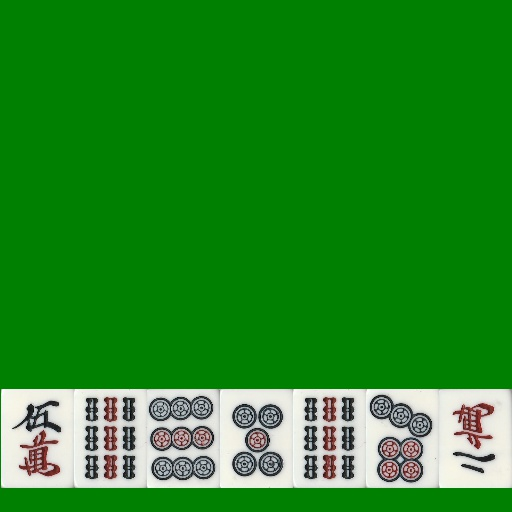2m: (439, 389, 512, 488)
5m: (1, 389, 74, 488)
5p: (220, 389, 293, 488)
7p: (366, 389, 439, 488)
9p: (147, 389, 220, 488)
9s: (74, 389, 147, 488), (293, 389, 366, 488)
